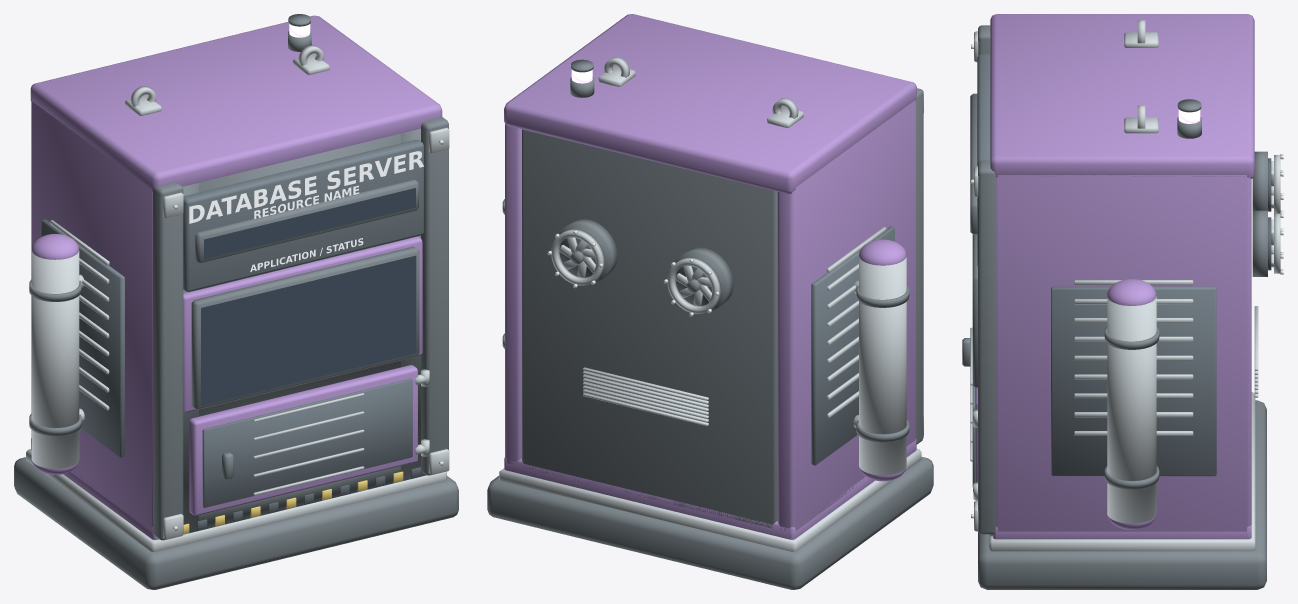
Rendered from database_server_ultra.glb.
3 renders of one model, left to right at view 1: azimuth 30°, elevation 25°; view 2: azimuth 150°, elevation 25°; view 3: azimuth 270°, elevation 25°, orthographic. The views are drawn at different scales.
Parts seen in each view (by area): view 1: Roof_violet, SideWall_violet, LiveViewSurface_glass, CornerPost_frame, Skid_frame, DoorMoving_Inset_graphite, FrontHeader_graphite, Reservoir_steel, SideServicePanel_graphite, DoorMoving_Panel_violet, SkidDeck_steel, LiveViewSurfaceFrame_frame (+18 smaller); view 2: BackWall_frame, Roof_violet, SideWall_violet, Skid_frame, Reservoir_steel, SideServicePanel_graphite, SkidDeck_steel, KickPlate_violet, RearFan_steel, RearVent_steel, CornerPost_frame, RearFan_frame (+6 smaller); view 3: SideWall_violet, Roof_violet, SideServicePanel_graphite, Skid_frame, Reservoir_steel, CornerPost_frame, SkidDeck_steel, SideLouver_steel, KickPlate_violet, RearFan_frame, FrontHeader_graphite, ReservoirCap_violet (+9 smaller).
Part boxes in pixels (x1,y1,x2,y2): Roof_violet: (30,15,442,191); SideWall_violet: (31,101,152,531); LiveViewSurface_glass: (201,255,416,405); CornerPost_frame: (153,117,448,540); Skid_frame: (14,457,458,589); DoorMoving_Inset_graphite: (202,378,412,507); FrontHeader_graphite: (183,139,423,291); Reservoir_steel: (31,250,79,468); SideServicePanel_graphite: (41,219,124,457); DoorMoving_Panel_violet: (189,365,417,515); SkidDeck_steel: (26,449,446,551); LiveViewSurfaceFrame_frame: (191,246,419,409); BackWall_frame: (522,129,777,528); Roof_violet: (504,14,916,193); SideWall_violet: (505,100,915,530); Skid_frame: (487,457,933,589); Reservoir_steel: (859,256,906,475); SideServicePanel_graphite: (811,226,894,465); SkidDeck_steel: (499,448,921,551); KickPlate_violet: (504,439,916,539); RearFan_steel: (551,229,720,313); RearVent_steel: (583,367,708,426); CornerPost_frame: (916,88,923,444); RearFan_frame: (558,219,733,312); SideWall_violet: (996,175,1251,531); Roof_violet: (990,14,1254,178); SideServicePanel_graphite: (1051,286,1216,476); Skid_frame: (978,400,1266,589); Reservoir_steel: (1107,296,1156,523); CornerPost_frame: (978,25,996,534); SkidDeck_steel: (989,392,1255,551); SideLouver_steel: (1074,280,1193,435); KickPlate_violet: (993,525,1251,539); RearFan_frame: (1252,151,1267,276); FrontHeader_graphite: (977,54,990,265); ReservoirCap_violet: (1107,279,1156,529).
Bounding box in the file's own units: 2.52 × 2.66 × 1.69.
